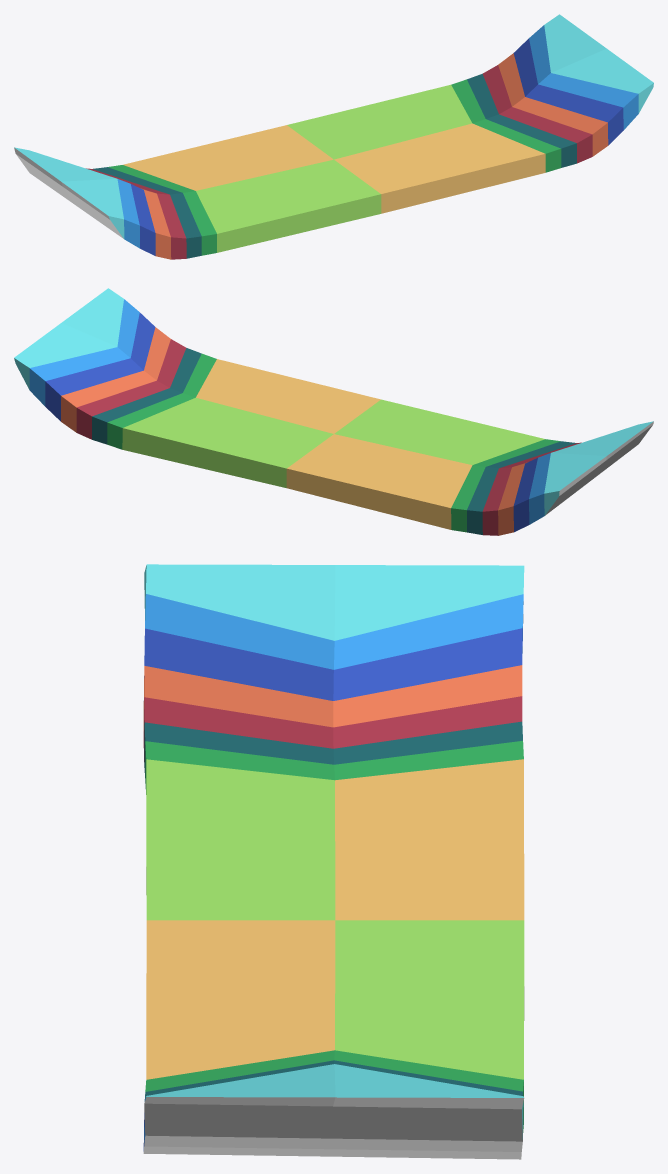
Rendered from SnoubordMesh.fbx.
The picture shows the model from 3 angles, top to bottom: view 1: azimuth 30°, elevation 25°; view 2: azimuth 150°, elevation 25°; view 3: azimuth 270°, elevation 25°; orthographic projection. The views are drawn at different scales.
Visible parts, largest first — view 1: Куб; view 2: Куб; view 3: Куб.
Boxes of the visible parts, x1,y1,x2,y2 form: Куб: (14,14,653,259); Куб: (14,288,653,535); Куб: (143,564,524,1159).
Size of the model in its own units: 101 by 38.69 by 334.
